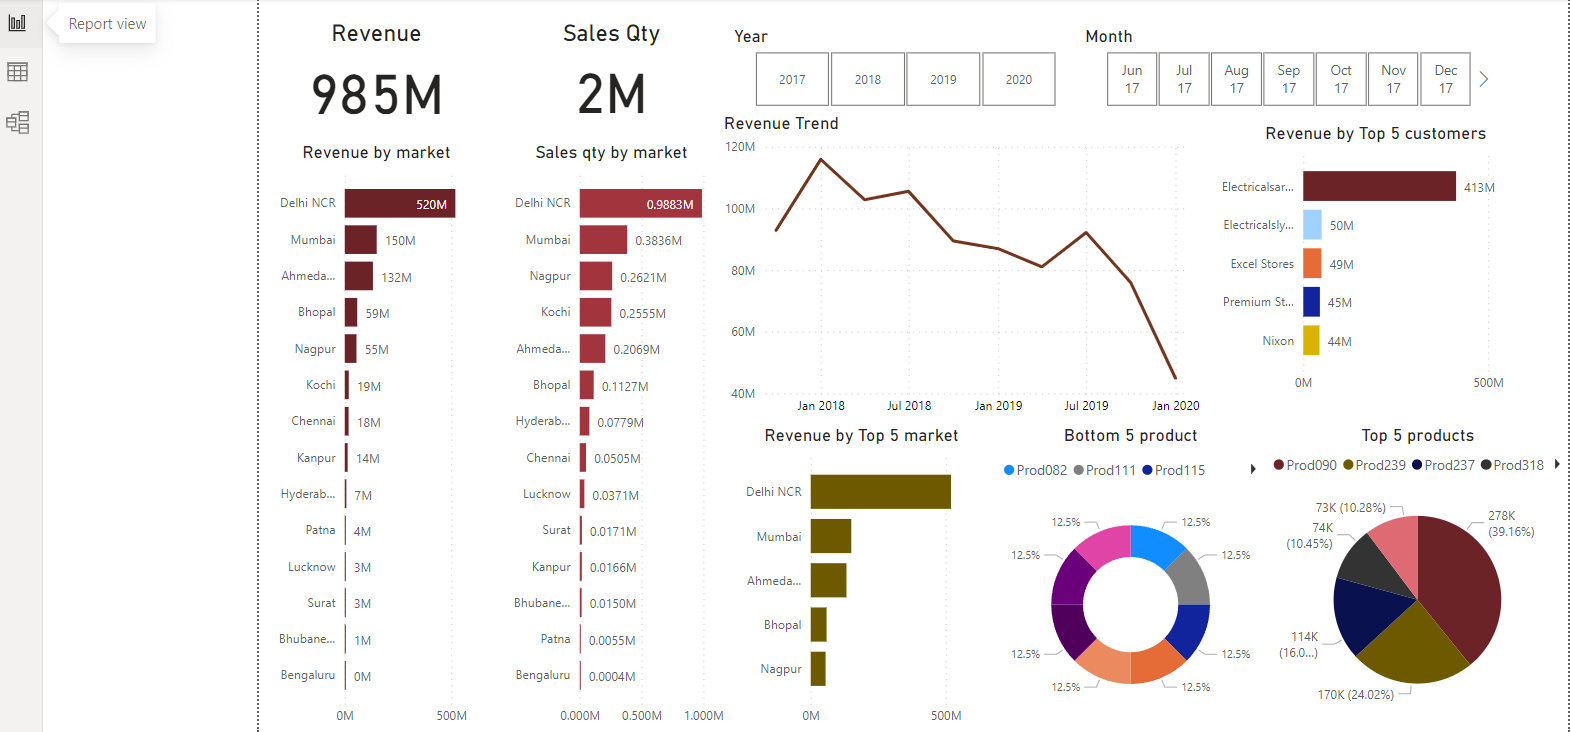

The dashboard page shown, as its layout file describes it:
{"tool":"powerbi","page":{"name":"Page 1","canvas":[1280,720],"ordinal":0},"visuals":[{"type":"card","title":"Revenue","fields":{"Values":["transactionss.sales_amount"]},"box":[0,0,229.8,140.6],"z":0},{"type":"card","title":"Sales Qty","fields":{"Values":["transactionss.sales_qty"]},"box":[229.8,0,229.8,140.6],"z":1000},{"type":"barChart","title":"Revenue by market","fields":{"Category":["market.markets_name"],"Y":["transactionss.sales_amount"]},"box":[0,140.6,229.8,579.4],"z":2000},{"type":"slicer","title":"Year","fields":{"Values":["date.year"]},"box":[459.6,26.9,343.5,85.6],"z":3000},{"type":"barChart","title":"Sales qty by market","fields":{"Category":["market.markets_name"],"Y":["transactionss.sales_qty"]},"box":[229.8,140.6,229.8,579.4],"z":4000},{"type":"slicer","title":"Month","fields":{"Values":["date.cy_date"]},"box":[803.1,26.9,405.8,85.6],"z":5000},{"type":"pieChart","title":"Top 5 products","fields":{"Category":["transactionss.product_code"],"Y":["transactionss.sales_qty"]},"box":[986.5,416.8,293.4,294.6],"z":7000},{"type":"lineChart","title":"Revenue Trend","fields":{"Category":["date.cy_date.Variation.Date Hierarchy.Year","date.cy_date.Variation.Date Hierarchy.Quarter","date.cy_date.Variation.Date Hierarchy.Month","date.cy_date.Variation.Date Hierarchy.Day"],"Y":["transactionss.sales_amount"]},"box":[449.8,112.5,475.5,304.4],"z":8000},{"type":"donutChart","title":"Bottom 5 product","fields":{"Category":["product.product_code"],"Y":["transactionss.sales_qty"]},"box":[718.8,416.8,267.7,294.6],"z":9000},{"type":"barChart","title":"Revenue by Top 5 customers","fields":{"Category":["customers.customer_name"],"Y":["transactionss.sales_amount"]},"box":[925.4,122.2,333.7,272.6],"z":10000},{"type":"barChart","title":"Revenue by Top 5 market","fields":{"Category":["market.markets_name"],"Y":["transactionss.sales_amount"]},"box":[459.6,416.8,259.2,303.2],"z":10001}]}

Visuals, with their boxes on the page's 1280x720 design canvas (x1, y1, x2, y2). These are canvas units, not pixel positions in the 1571x732 screenshot, which may show the page scaled, cropped or inside an application window:
"Revenue" card: [0, 0, 230, 141]
"Sales Qty" card: [230, 0, 460, 141]
"Revenue by market" barChart: [0, 141, 230, 720]
"Year" slicer: [460, 27, 803, 112]
"Sales qty by market" barChart: [230, 141, 460, 720]
"Month" slicer: [803, 27, 1209, 112]
"Top 5 products" pieChart: [986, 417, 1280, 711]
"Revenue Trend" lineChart: [450, 112, 925, 417]
"Bottom 5 product" donutChart: [719, 417, 986, 711]
"Revenue by Top 5 customers" barChart: [925, 122, 1259, 395]
"Revenue by Top 5 market" barChart: [460, 417, 719, 720]
